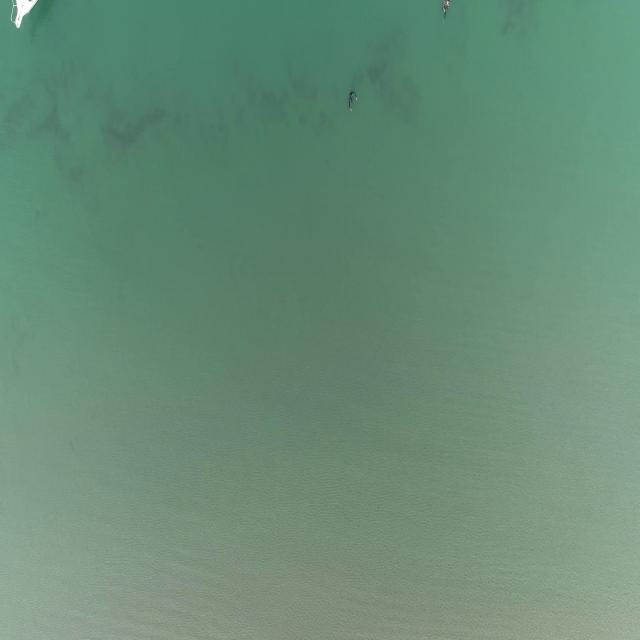person: (346, 90, 359, 112), (440, 1, 452, 19)
